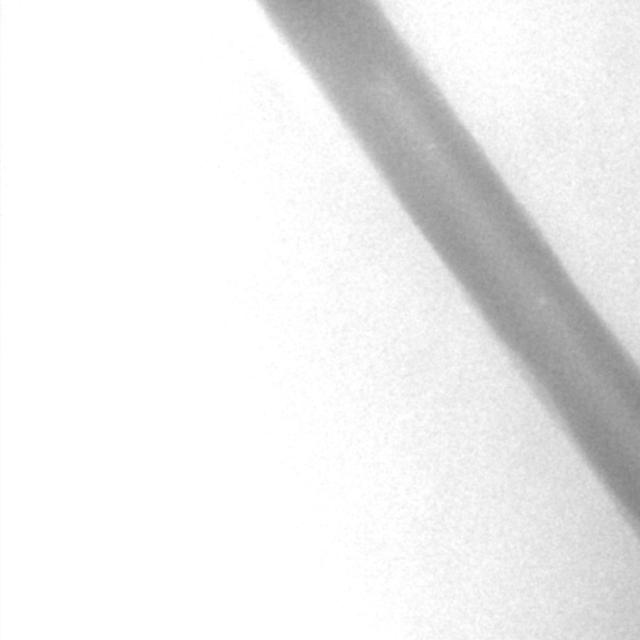air hole: (535, 292, 549, 311), (425, 138, 437, 149)
